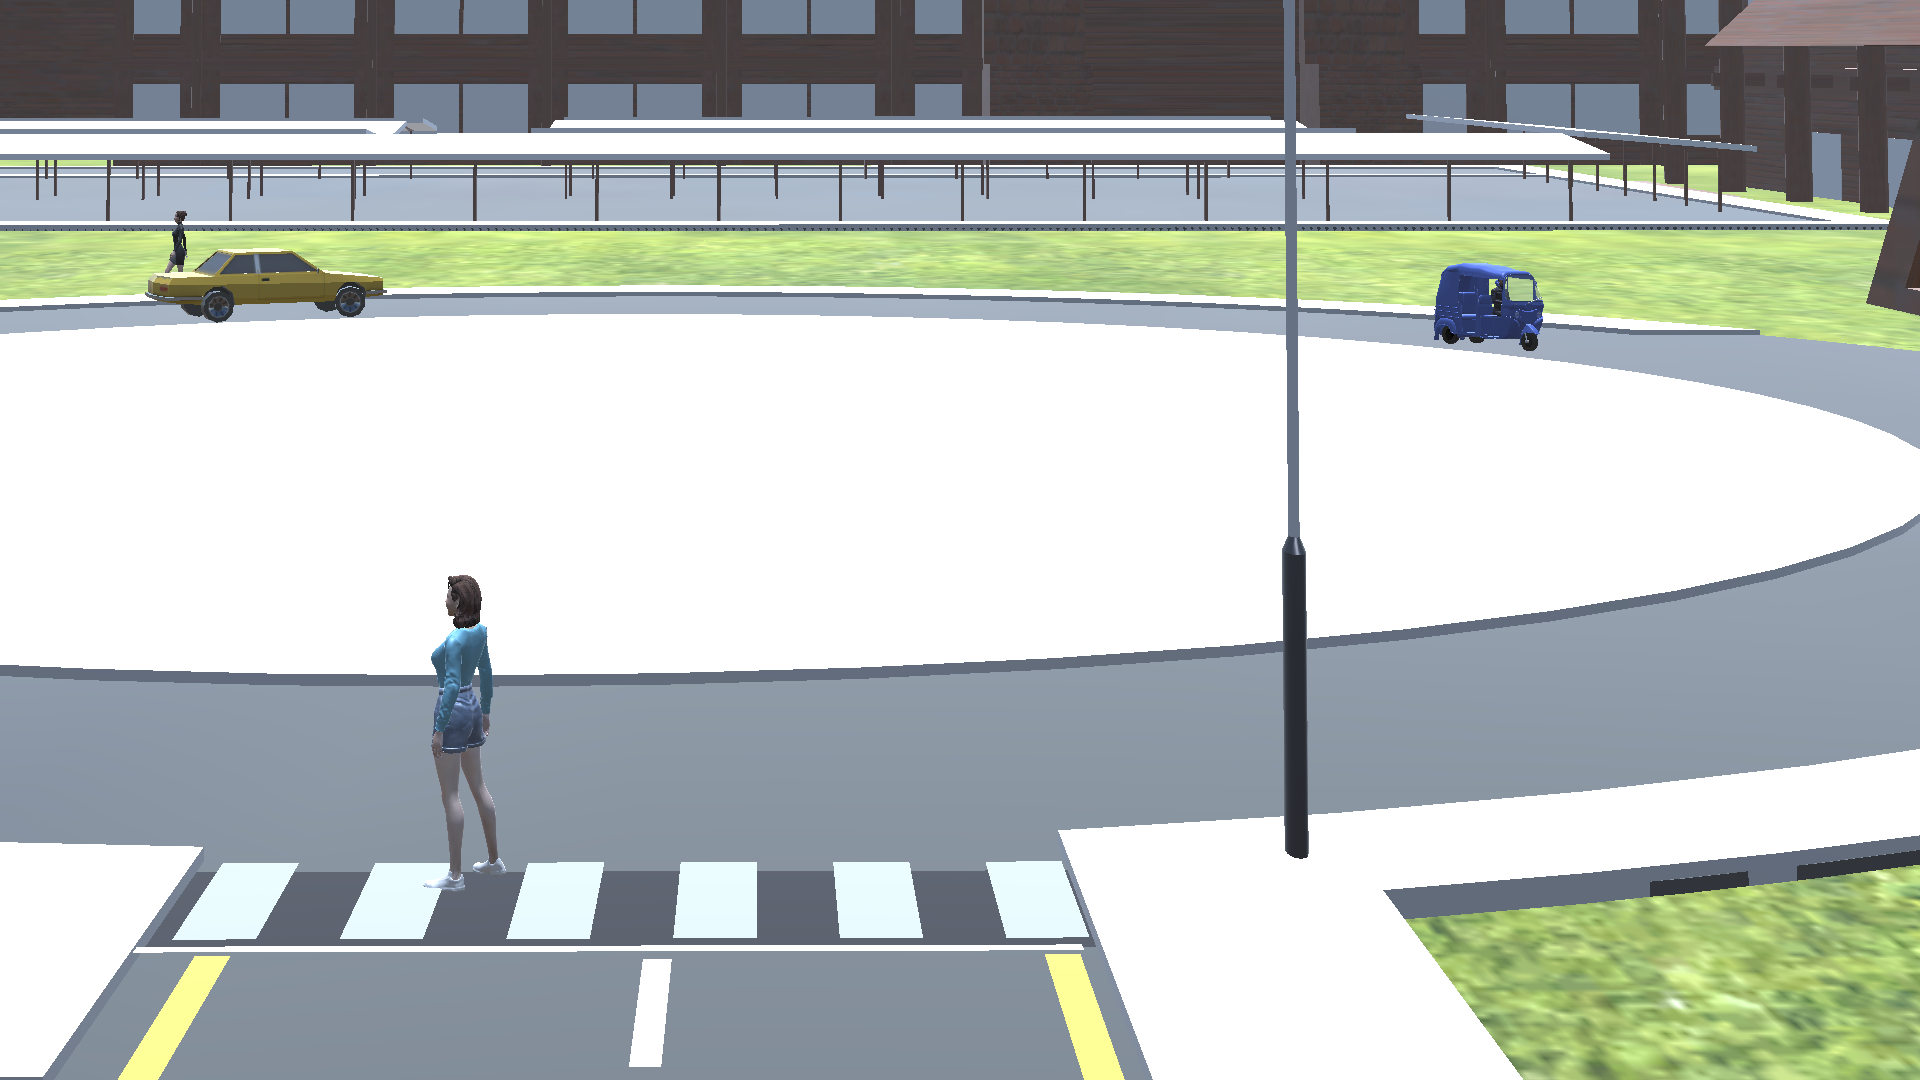pedestrian: (424, 568, 505, 896), (157, 207, 191, 274)
